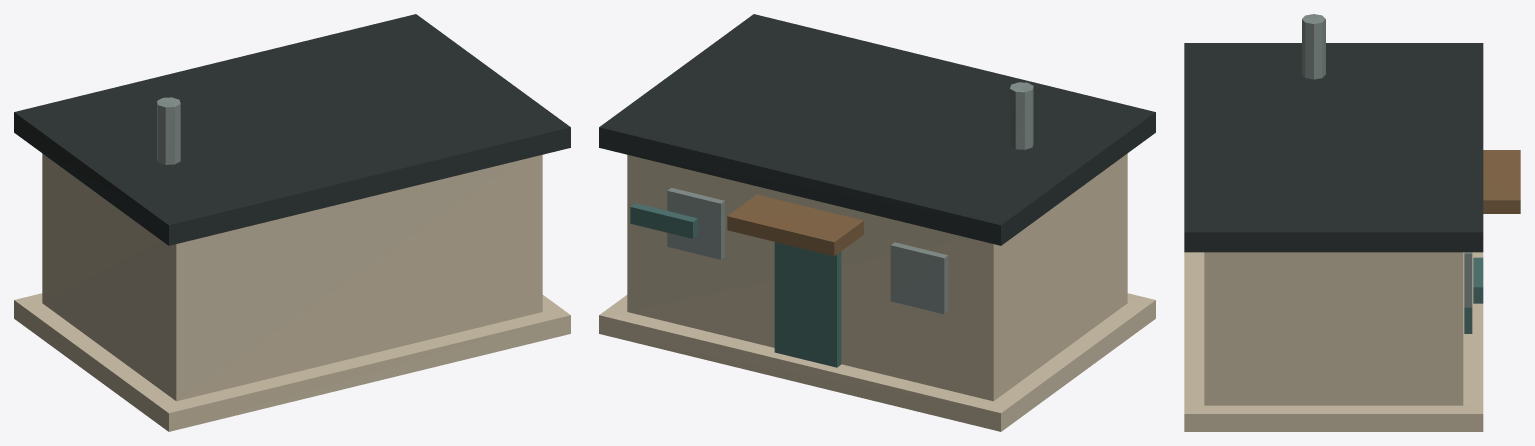
File: clinic.source.glb
3 views of the same model, side by side, from view 1: azimuth 30°, elevation 25°; view 2: azimuth 150°, elevation 25°; view 3: azimuth 270°, elevation 25° (orthographic). The views are drawn at different scales.
Visible parts, largest first — view 1: clinic-clinic-shell-mesh, clinic-clinic-roof-mesh, clinic-foundation-mesh, clinic-vent-stack-mesh; view 2: clinic-clinic-roof-mesh, clinic-clinic-shell-mesh, clinic-foundation-mesh, clinic-teal-clinic-door-mesh, clinic-entry-canopy-mesh, clinic-clinic-window--1.25-mesh, clinic-clinic-window-1.25-mesh, clinic-vent-stack-mesh, clinic-medical-cross-mesh; view 3: clinic-clinic-roof-mesh, clinic-clinic-shell-mesh, clinic-foundation-mesh, clinic-entry-canopy-mesh, clinic-vent-stack-mesh, clinic-medical-cross-mesh, clinic-clinic-window-1.25-mesh.
Part boxes in pixels (left/top/right/bottom): clinic-clinic-shell-mesh: left=42, top=153, right=542, bottom=401; clinic-clinic-roof-mesh: left=14, top=14, right=570, bottom=245; clinic-foundation-mesh: left=14, top=293, right=570, bottom=431; clinic-vent-stack-mesh: left=157, top=97, right=180, bottom=164; clinic-clinic-roof-mesh: left=599, top=14, right=1155, bottom=245; clinic-clinic-shell-mesh: left=627, top=153, right=1127, bottom=401; clinic-foundation-mesh: left=599, top=293, right=1155, bottom=431; clinic-teal-clinic-door-mesh: left=774, top=242, right=841, bottom=367; clinic-entry-canopy-mesh: left=727, top=194, right=863, bottom=256; clinic-clinic-window--1.25-mesh: left=890, top=242, right=948, bottom=314; clinic-clinic-window-1.25-mesh: left=667, top=187, right=724, bottom=259; clinic-vent-stack-mesh: left=1010, top=82, right=1033, bottom=149; clinic-medical-cross-mesh: left=630, top=203, right=697, bottom=238; clinic-clinic-roof-mesh: left=1184, top=43, right=1483, bottom=252; clinic-clinic-shell-mesh: left=1204, top=252, right=1463, bottom=405; clinic-foundation-mesh: left=1184, top=252, right=1483, bottom=431; clinic-entry-canopy-mesh: left=1483, top=150, right=1520, bottom=213; clinic-vent-stack-mesh: left=1302, top=14, right=1325, bottom=79; clinic-medical-cross-mesh: left=1473, top=257, right=1483, bottom=303; clinic-clinic-window-1.25-mesh: left=1464, top=252, right=1472, bottom=307.
Bounding box in the file's own units: 4.5 × 2.82 × 3.37.
